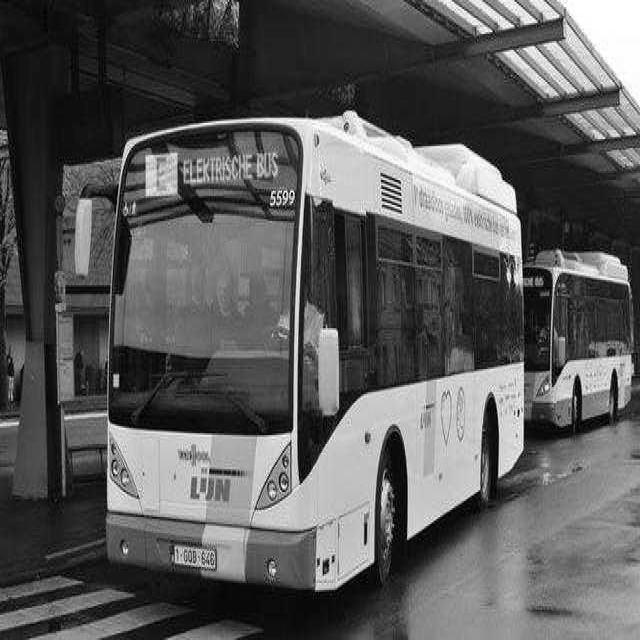Bus: (95, 114, 528, 583), (519, 262, 640, 440)
